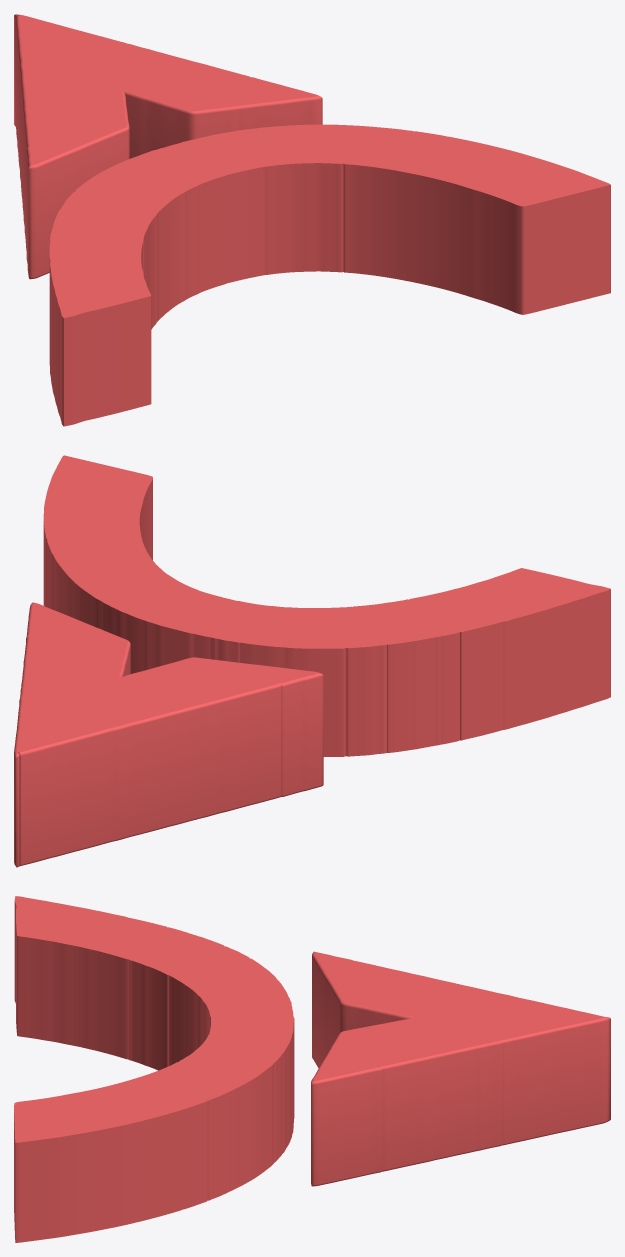
Rendered from agnas1.glb.
3 views of the same model, one above another, from view 1: azimuth 30°, elevation 25°; view 2: azimuth 150°, elevation 25°; view 3: azimuth 270°, elevation 25° (orthographic). The views are drawn at different scales.
Visible parts, largest first — view 1: Curve, Curve.001; view 2: Curve, Curve.001; view 3: Curve, Curve.001.
Part boxes in pixels (x1=…): Curve: x1=49, y1=124, x2=610, y2=426; Curve.001: x1=14, y1=14, x2=322, y2=279; Curve: x1=43, y1=455, x2=610, y2=756; Curve.001: x1=14, y1=602, x2=323, y2=867; Curve: x1=14, y1=896, x2=294, y2=1242; Curve.001: x1=311, y1=951, x2=610, y2=1186.
Size of the model in its own units: 0.7223 by 0.1436 by 0.7388.
